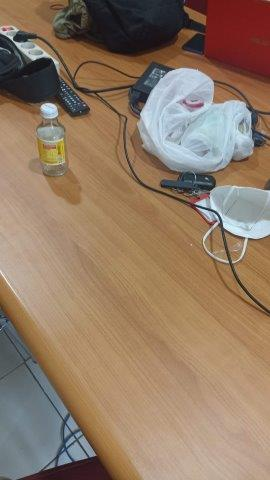botolkaca: (37, 102, 68, 179)
plastik: (135, 68, 254, 176)
